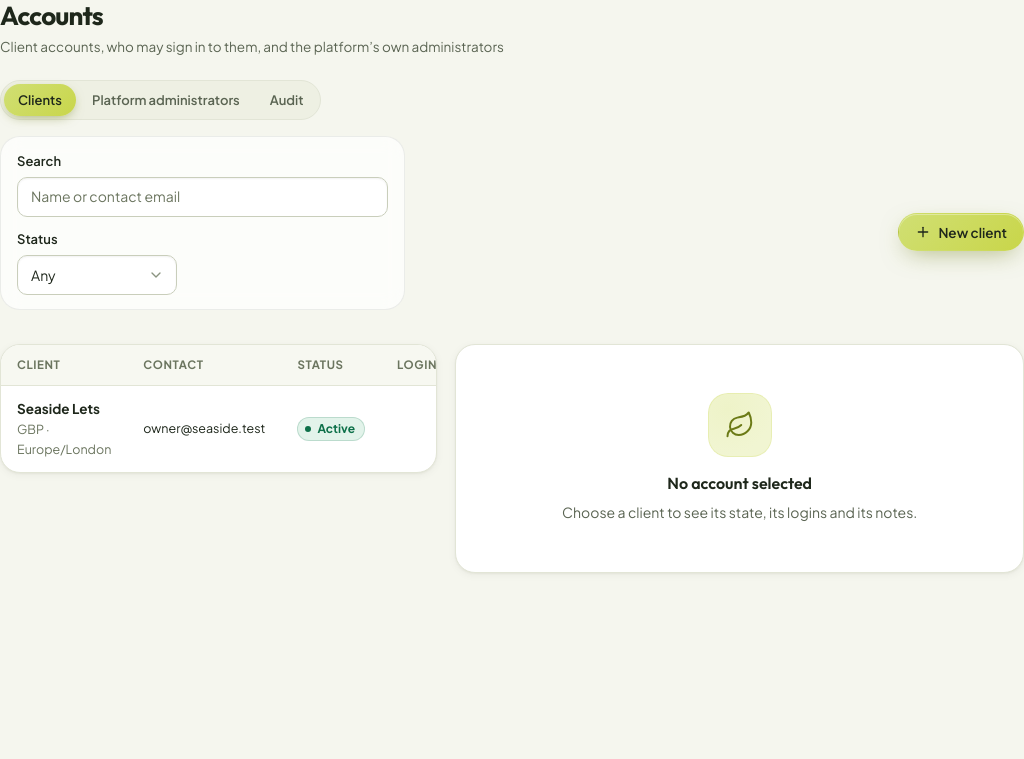
Test: AccountsPage › creates a client with the details typed and nothing else
Click the button "New client" at (961, 232), box [898,213,1023,251]
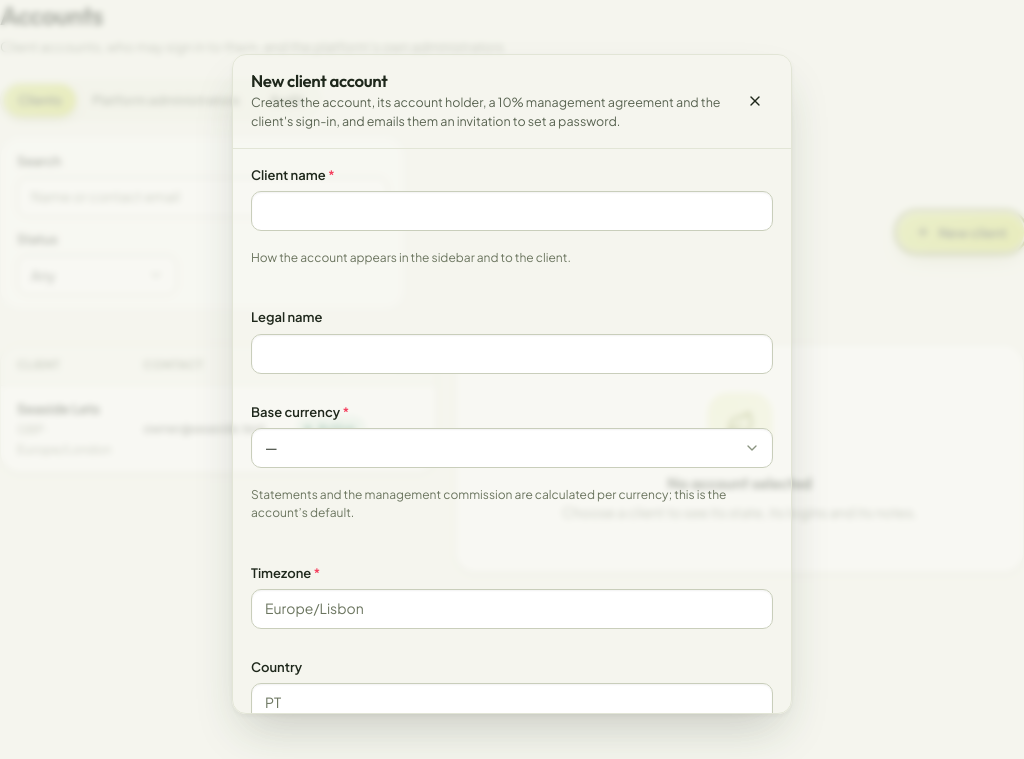
Type "Harbour Homes" into the field labelled "Client name *" at (512, 211), box [251,191,773,231]
Select "GBP" in the dropdown labelled "Base currency *" at (512, 448), box [251,428,773,468]
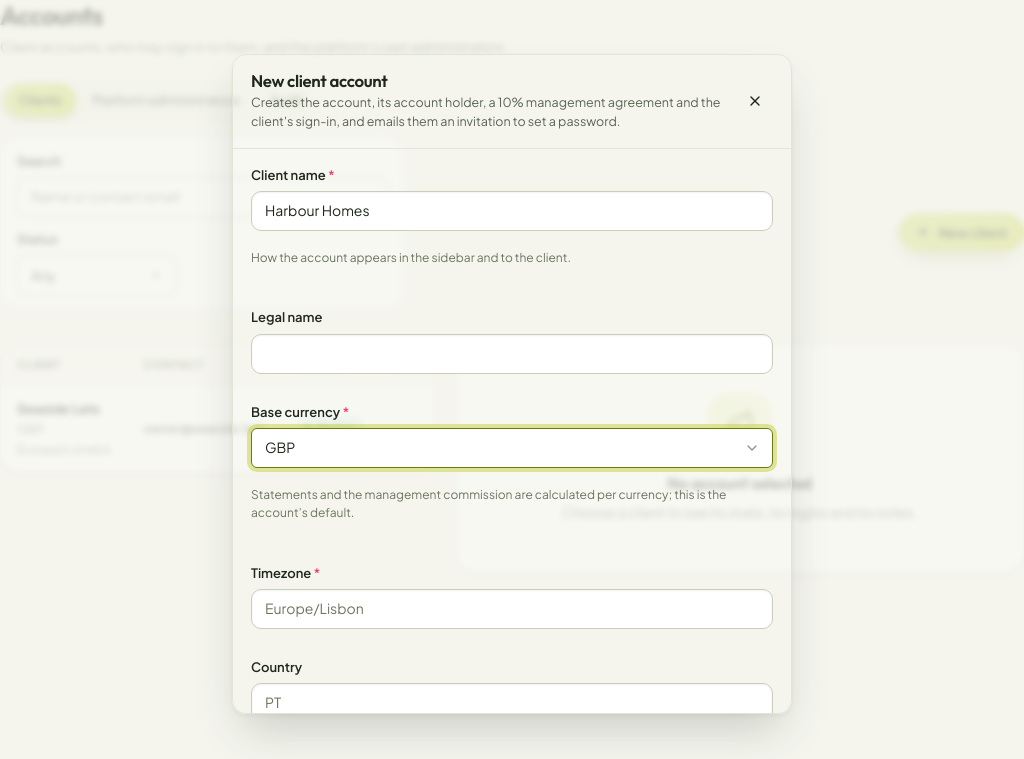
Type "Europe/London" into the field labelled "Timezone *" at (512, 609), box [251,589,773,629]
(page scrolled)
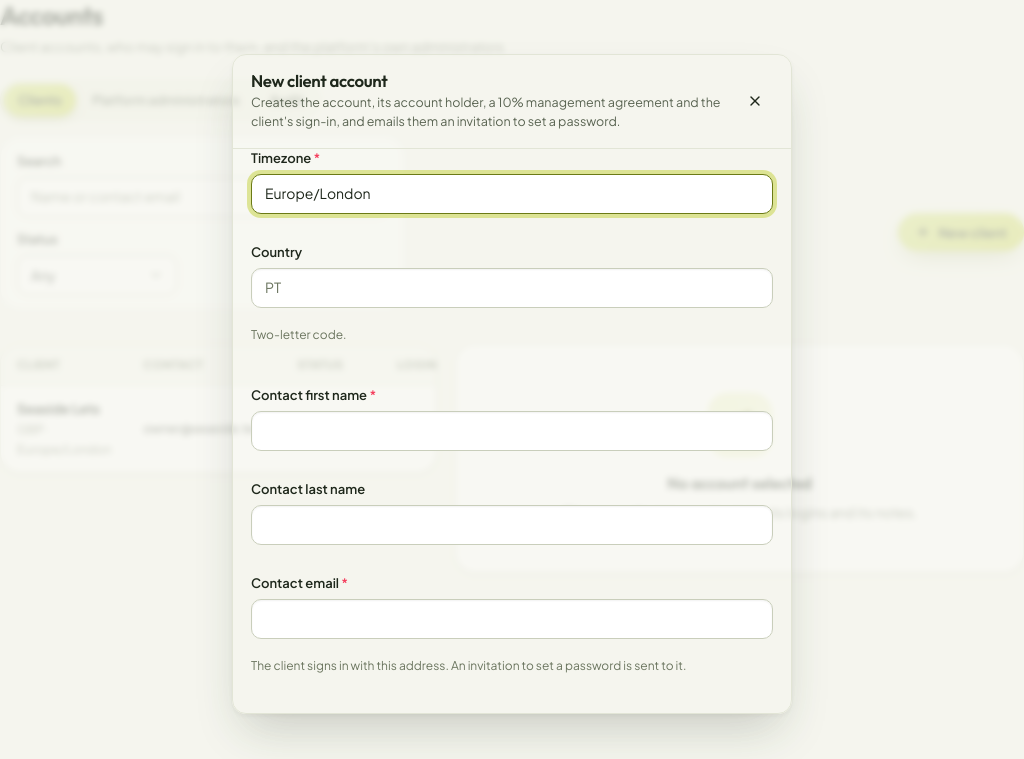
Type "Hana" into the field labelled "Contact first name *" at (512, 431), box [251,411,773,451]
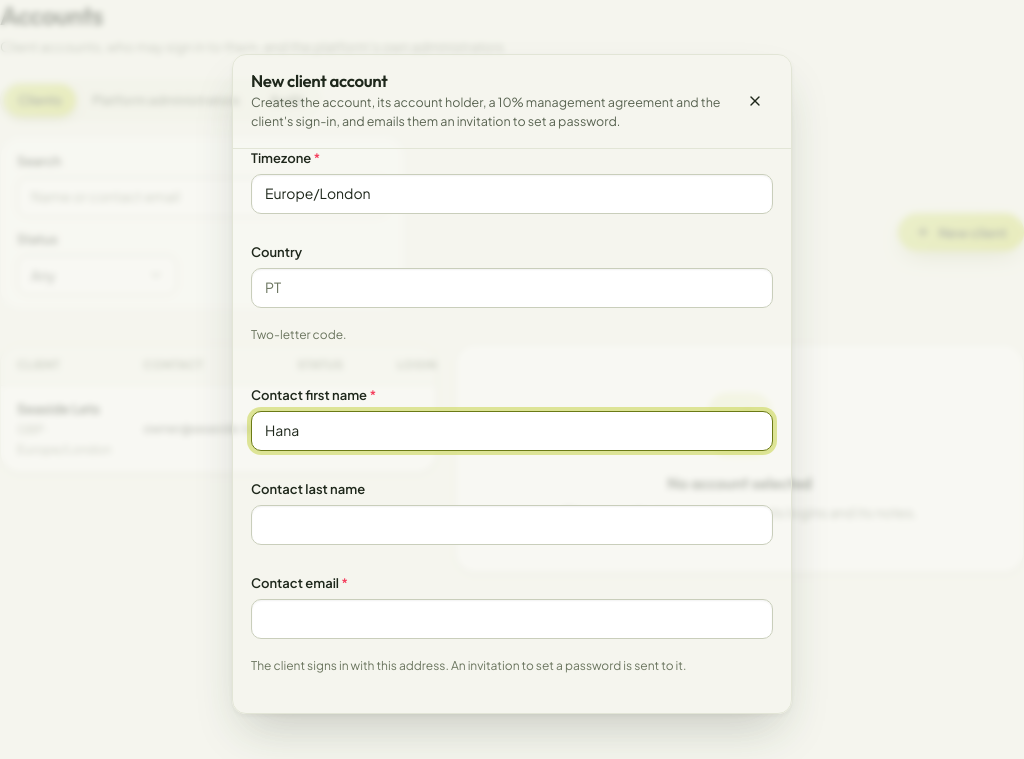
Type "hana@harbour.test" into the field labelled "Contact email *" at (512, 619), box [251,599,773,639]
(page scrolled)
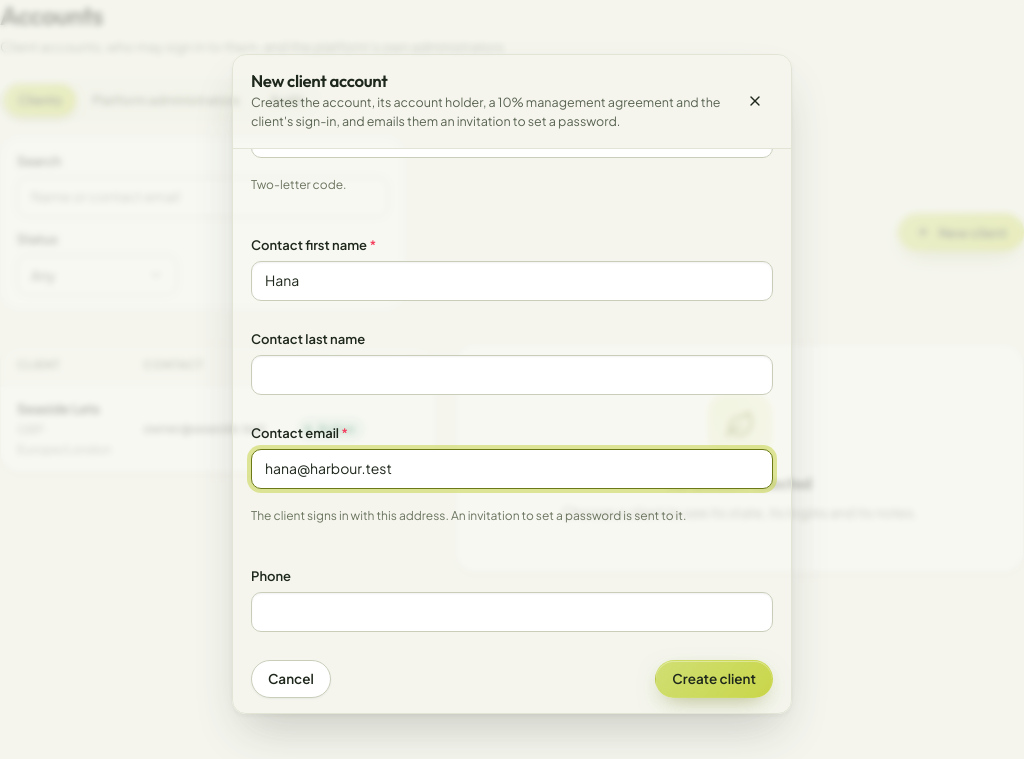
Click the button "Create client" at (714, 679), box [655,660,773,698]
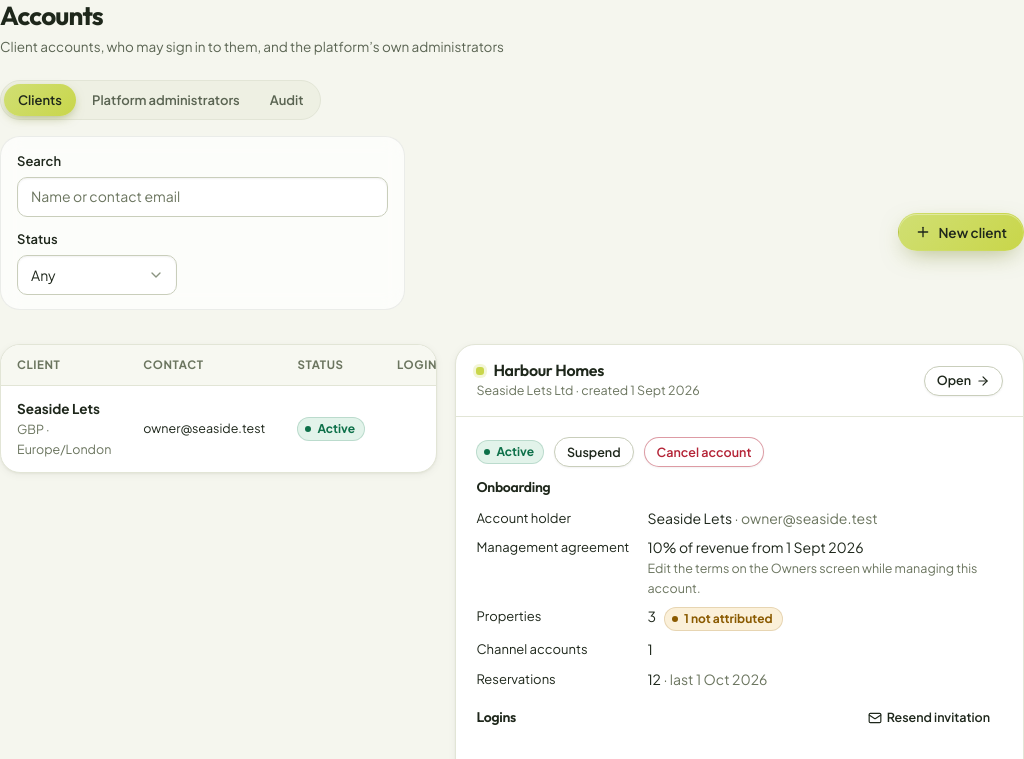
Check: the heading "Harbour Homes" is shown, box [493,360,604,380]
